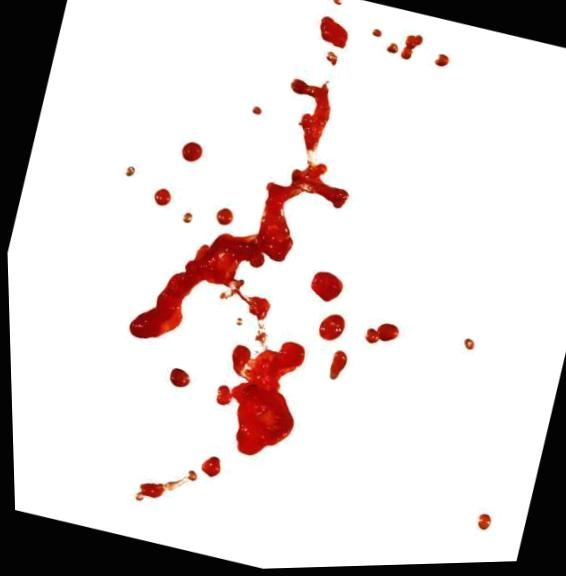Fire: (128, 80, 346, 339), (213, 333, 302, 457), (133, 475, 192, 500), (309, 275, 341, 304), (321, 19, 348, 49), (317, 316, 343, 342), (364, 326, 397, 346), (402, 37, 422, 61), (471, 512, 491, 535), (328, 354, 344, 382), (181, 143, 201, 161), (167, 371, 186, 389), (152, 190, 168, 206), (216, 210, 231, 226), (326, 54, 338, 67), (462, 342, 472, 352), (251, 107, 261, 117), (388, 45, 398, 55), (436, 58, 447, 67), (181, 214, 190, 223), (333, 0, 342, 5), (372, 32, 379, 37), (123, 173, 132, 176)
